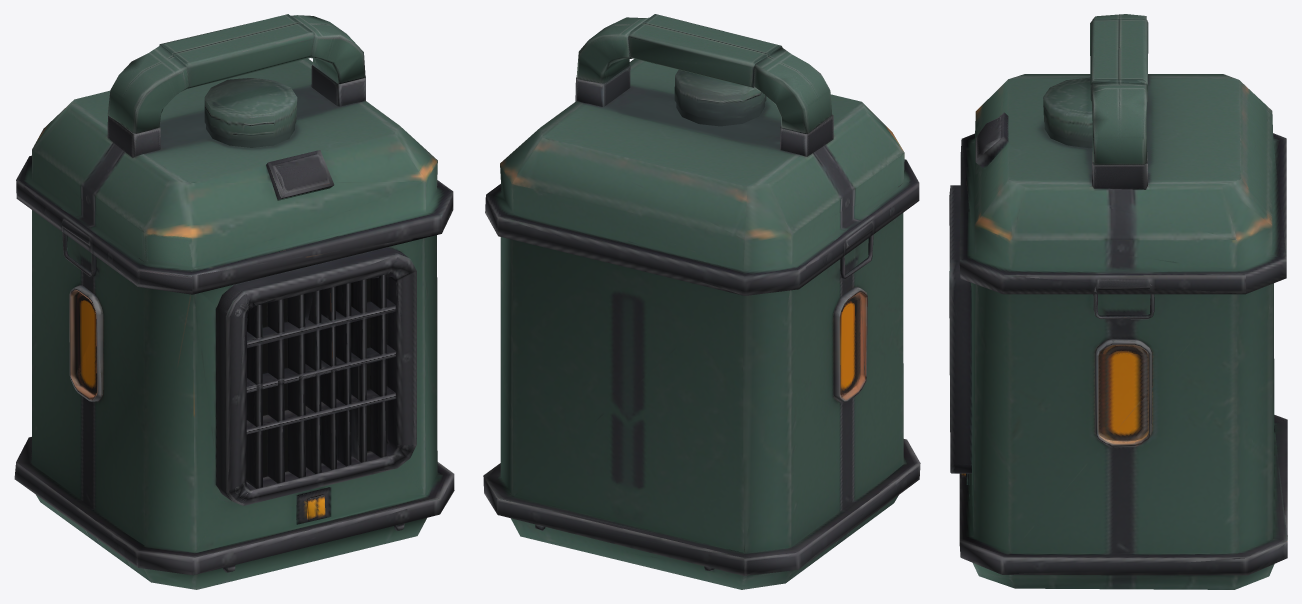
Rendered from portable-environment-filter.glb.
The picture shows the model from 3 angles, left to right: view 1: azimuth 30°, elevation 25°; view 2: azimuth 150°, elevation 25°; view 3: azimuth 270°, elevation 25°; orthographic projection.
Visible parts, largest first — view 1: portable-environment-filter; view 2: portable-environment-filter; view 3: portable-environment-filter.
Boxes of the visible parts, box(x1,y1,x2,y2) form: portable-environment-filter: box(14, 14, 454, 589); portable-environment-filter: box(483, 14, 920, 589); portable-environment-filter: box(949, 14, 1287, 589).
Bounding box in the file's own units: 0.4608 × 0.65 × 0.4215.
1 material, 1 textured.
